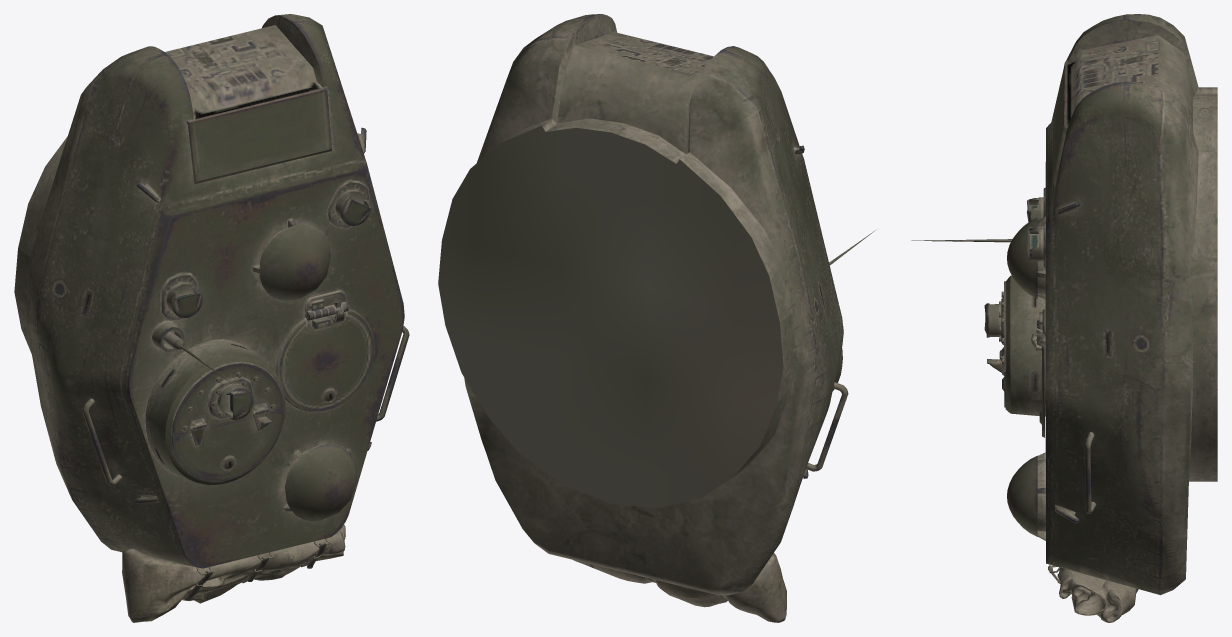
The model's file is Turret_02.glb.
The picture shows the model from 3 angles, left to right: view 1: azimuth 30°, elevation 25°; view 2: azimuth 150°, elevation 25°; view 3: azimuth 270°, elevation 25°; orthographic projection. The views are drawn at different scales.
Visible parts, largest first — view 1: set_0_group_0; view 2: set_0_group_0; view 3: set_0_group_0.
Boxes of the visible parts, bbox=[...] form: set_0_group_0: bbox=[14, 14, 409, 622]; set_0_group_0: bbox=[438, 14, 875, 622]; set_0_group_0: bbox=[911, 14, 1217, 622].
Bounding box in the file's own units: 2.01 × 3.06 × 1.57.
1 material, 1 textured.
